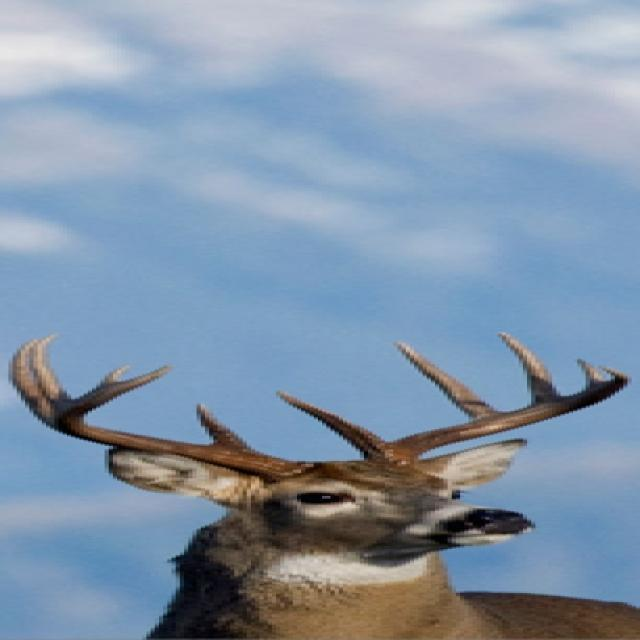L-F: (361, 365, 633, 470)
L-G1: (274, 389, 388, 454)
L-G2: (391, 341, 507, 422)
L-G3: (492, 330, 562, 406)
L-G4: (574, 358, 603, 388)
R-F: (45, 364, 317, 481)
R-G1: (191, 402, 257, 450)
R-G2: (8, 345, 50, 426)
R-G3: (30, 332, 74, 400)
R-G4: (97, 364, 134, 384)
